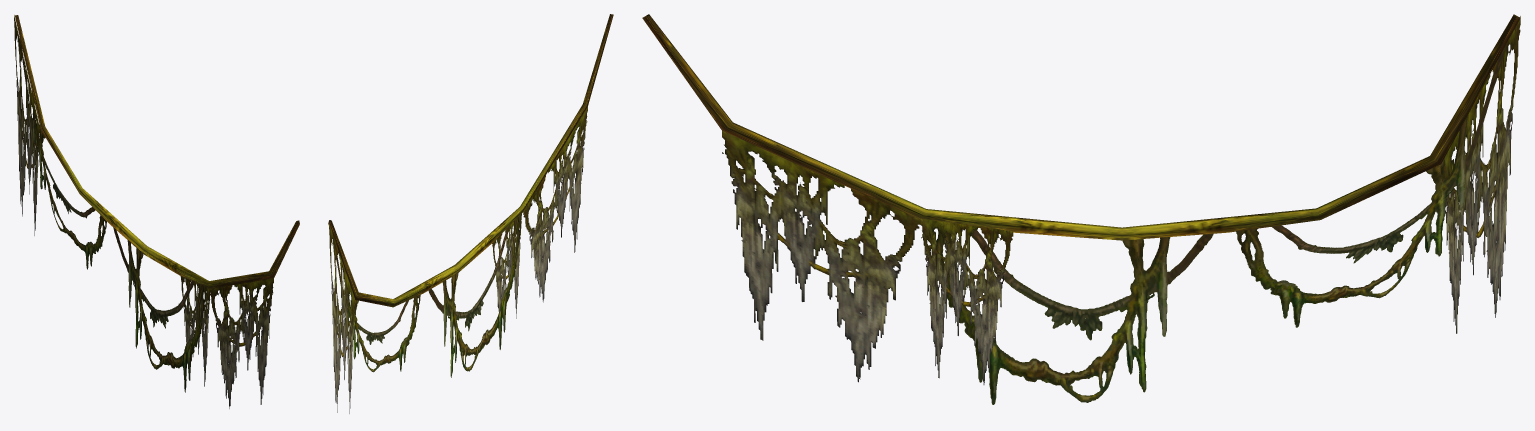
The model's file is swamphangingvines01.obj.
3 renders of one model, left to right at view 1: azimuth 30°, elevation 25°; view 2: azimuth 150°, elevation 25°; view 3: azimuth 270°, elevation 25°, orthographic. The views are drawn at different scales.
Parts seen in each view (by area): view 1: Geoset2, Geoset1, Geoset0; view 2: Geoset2, Geoset1, Geoset0; view 3: Geoset2, Geoset1, Geoset0.
Boxes of the visible parts, left/top/right/bottom form: Geoset2: left=14, top=15, right=273, bottom=408; Geoset1: left=19, top=36, right=206, bottom=392; Geoset0: left=15, top=15, right=299, bottom=288; Geoset2: left=329, top=107, right=587, bottom=413; Geoset1: left=336, top=213, right=521, bottom=377; Geoset0: left=328, top=14, right=613, bottom=307; Geoset2: left=722, top=16, right=1520, bottom=384; Geoset1: left=933, top=44, right=1506, bottom=404; Geoset0: left=642, top=14, right=1520, bottom=240.
Bounding box in the file's own units: 0.4802 × 25.35 × 50.23.
3 materials, 3 textured.
